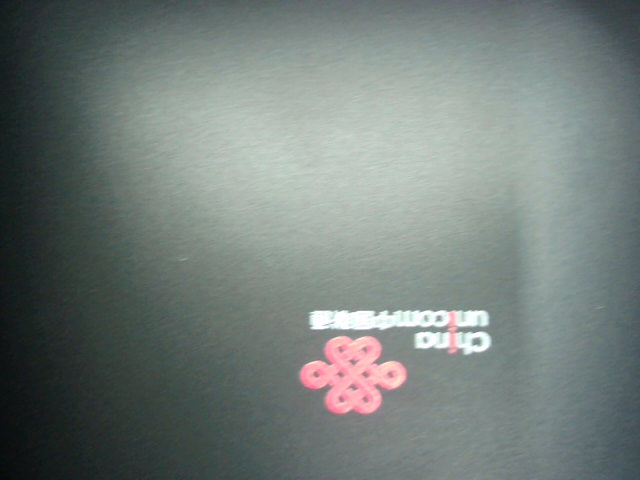AC_ChinaUnicom: (260, 295, 502, 419)
